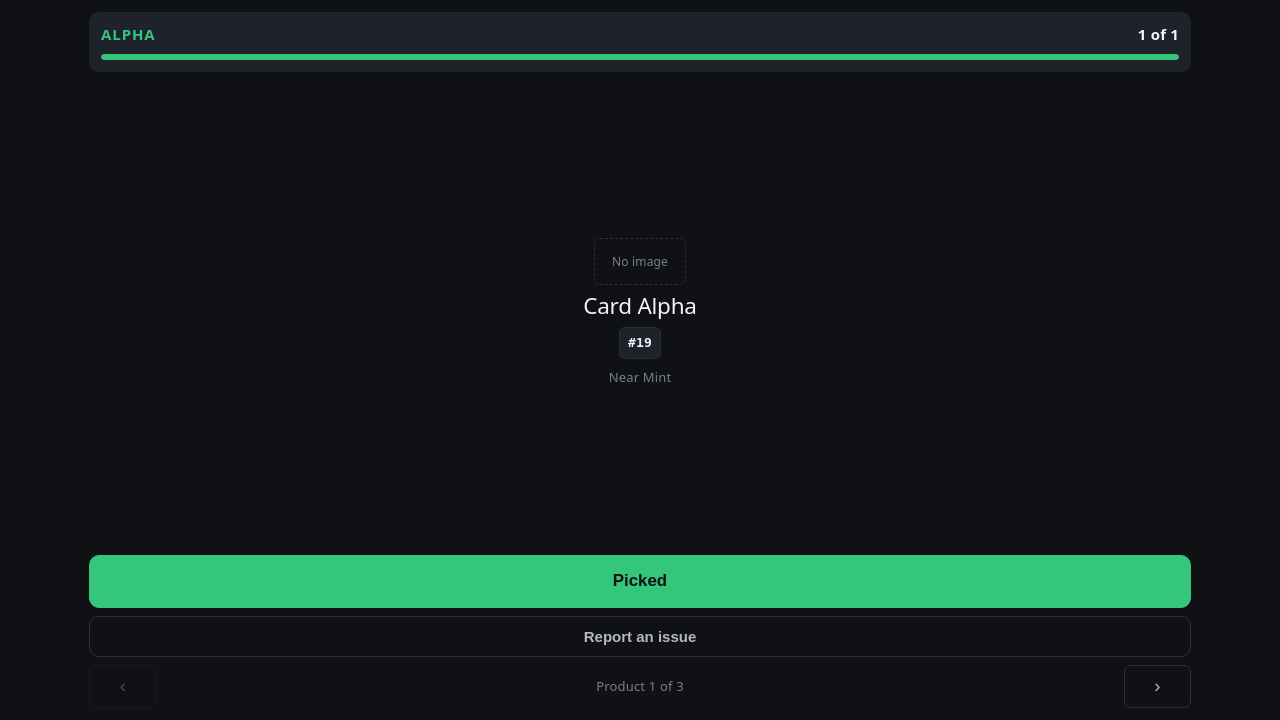
Scenario: FocusedPickView — moving is never blocked › crosses into the next box with the current one unresolved
Click the button named "Next card": click(1157, 686) [1124, 665, 1191, 708]
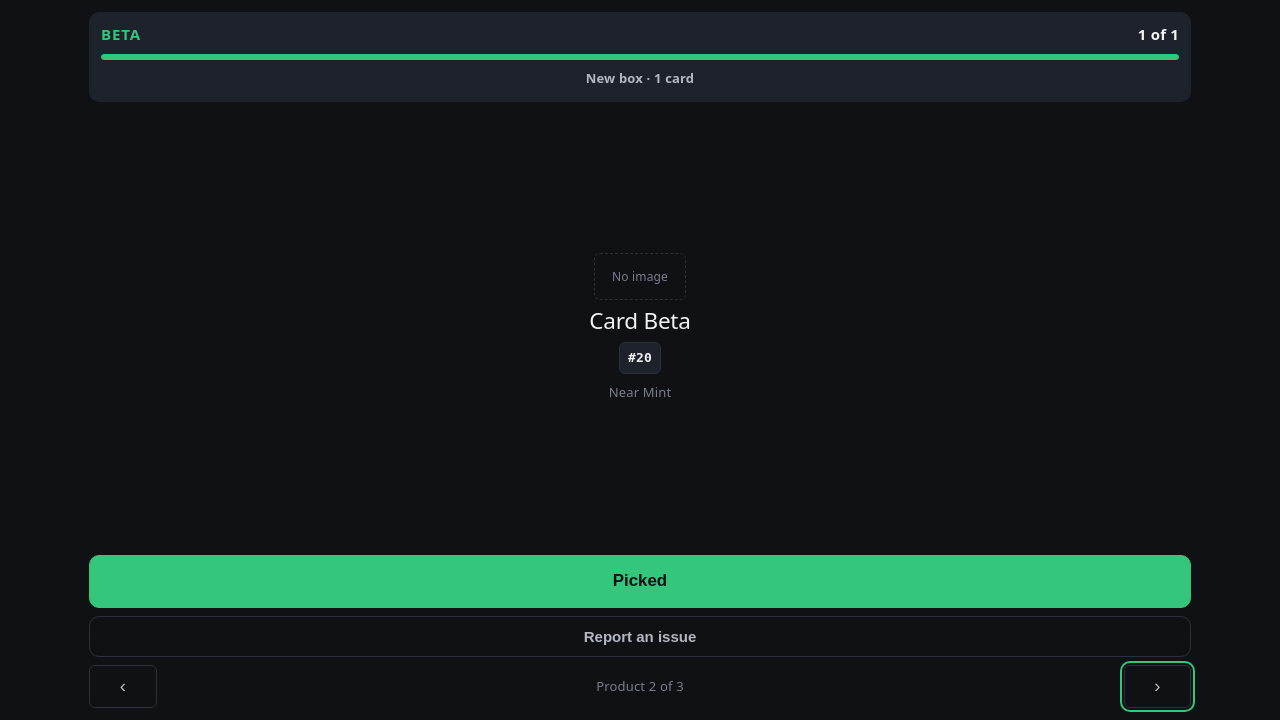
Expected: the heading "Card Beta" is shown, [589, 308, 691, 334]
